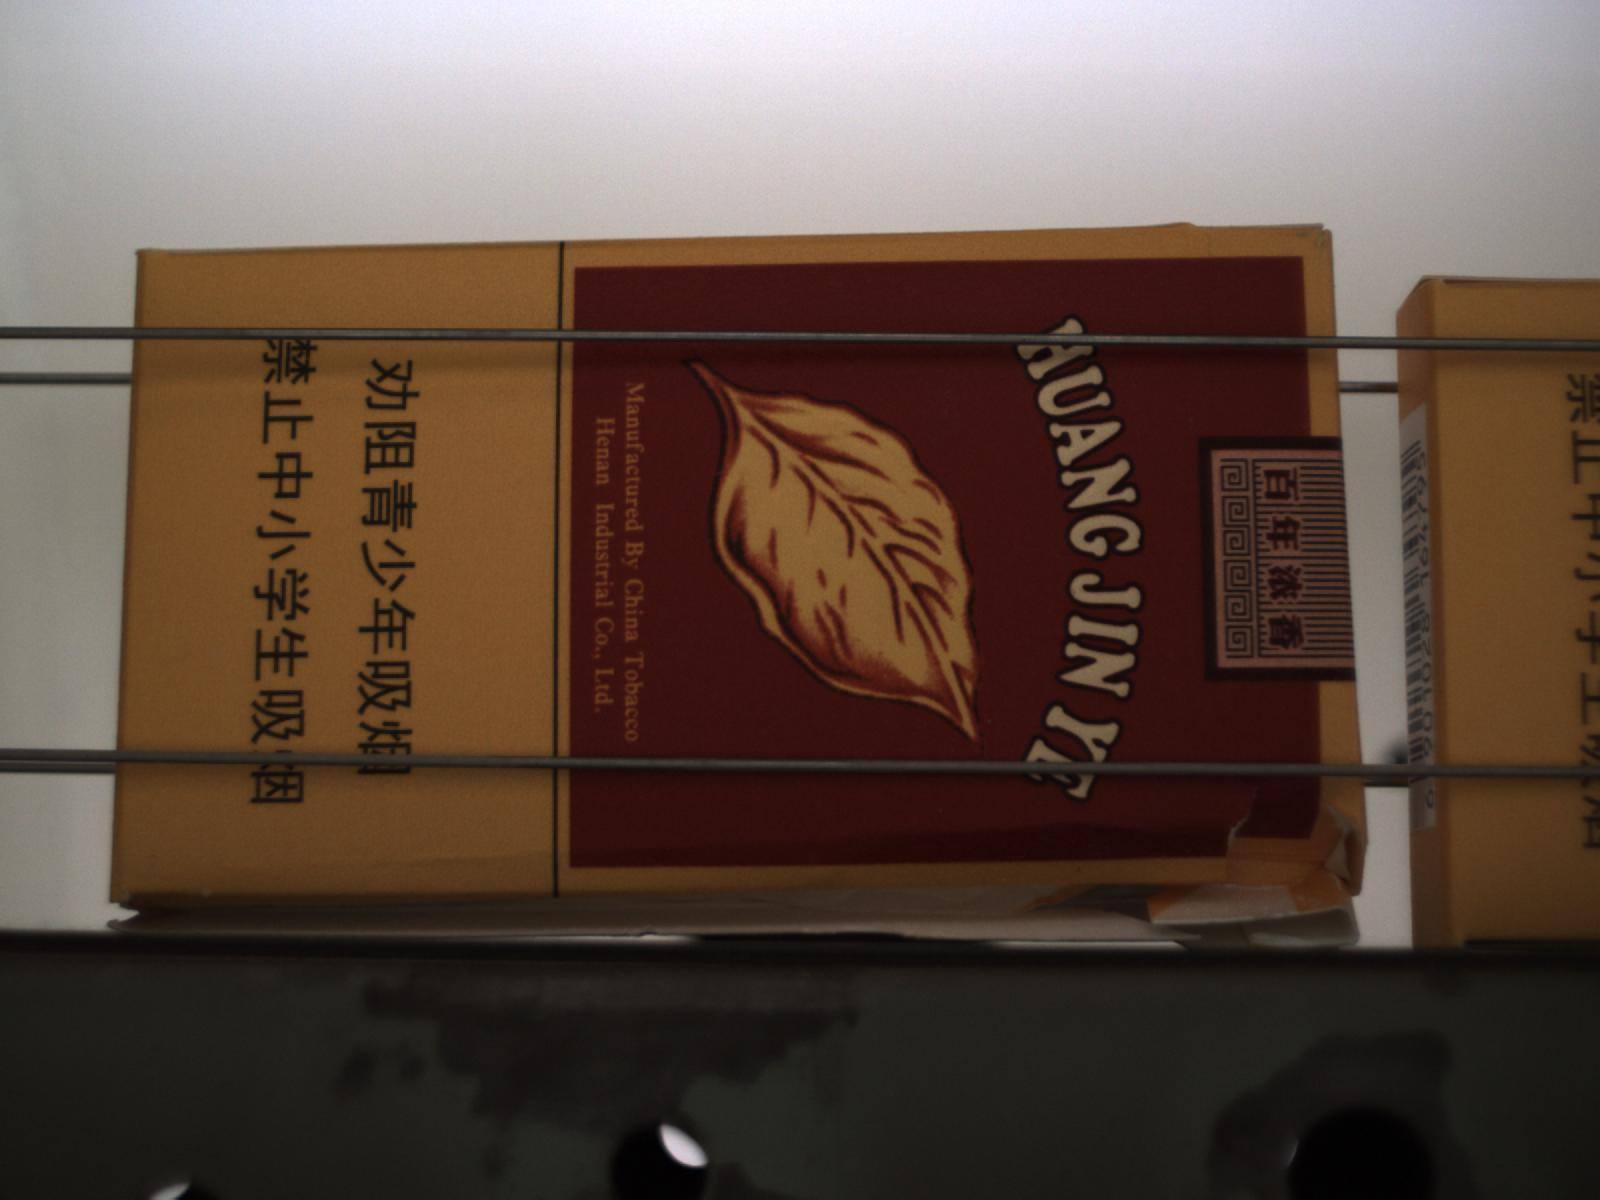boxDamage_back_heavy: (103, 779, 1372, 947)
